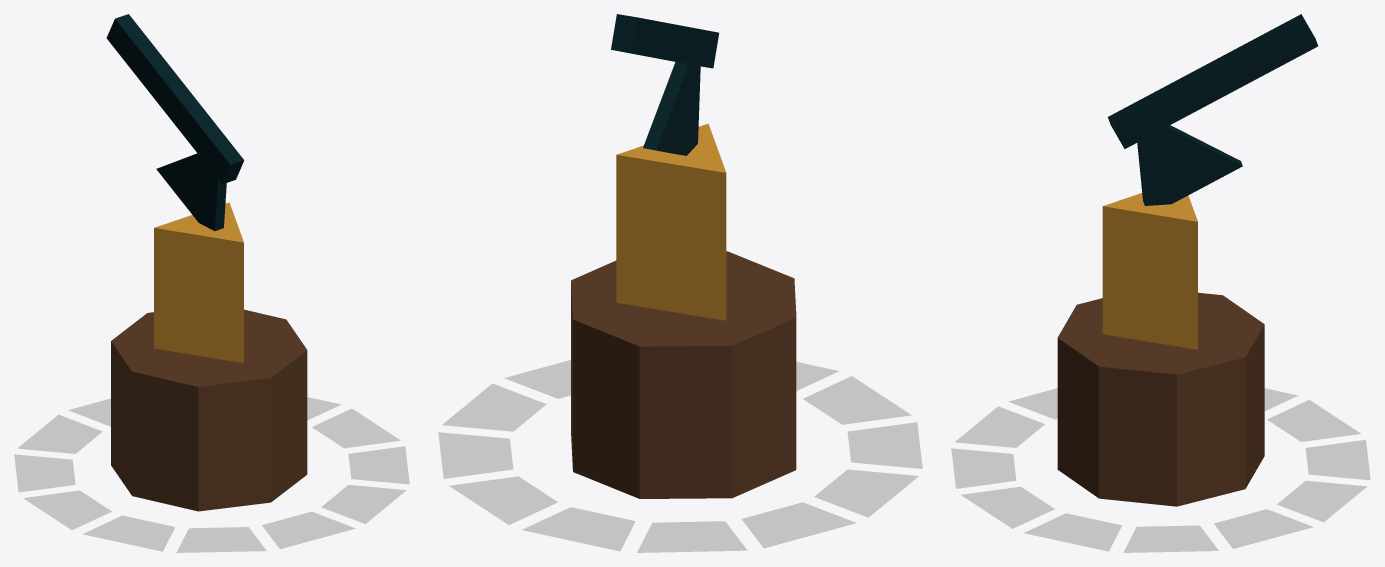
Rendered from FUEL WOOD PLACE.fbx.
The picture shows the model from 3 angles, left to right: view 1: azimuth 30°, elevation 25°; view 2: azimuth 150°, elevation 25°; view 3: azimuth 270°, elevation 25°; orthographic projection. The views are drawn at different scales.
Parts seen in each view (by area): view 1: FUEL_WOOD_PLACE; view 2: FUEL_WOOD_PLACE; view 3: FUEL_WOOD_PLACE.
Part boxes in pixels (<box>): FUEL_WOOD_PLACE: <box>14,14,409,552</box>; FUEL_WOOD_PLACE: <box>438,14,922,552</box>; FUEL_WOOD_PLACE: <box>951,14,1370,552</box>.
Size of the model in its own units: 114 by 130 by 114.
Materials: 1 (1 with a texture image).
